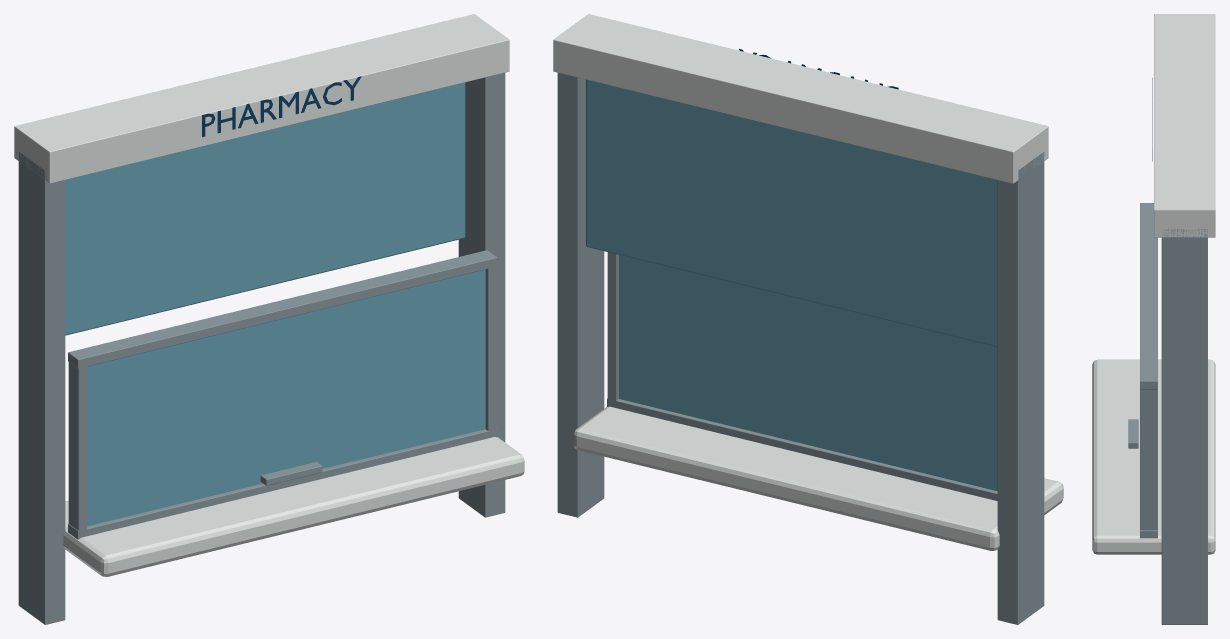
File: edited.glb
3 renders of one model, left to right at view 1: azimuth 30°, elevation 25°; view 2: azimuth 150°, elevation 25°; view 3: azimuth 270°, elevation 25°, orthographic. The views are drawn at different scales.
Parts seen in each view (by area): view 1: SASH_Glass, FIXED_UpperGlass, FRAME_Header, FRAME_Jamb, COUNTER_Ledge, FRAME_Jamb.001, SASH_Rail.001, SASH_Rail, SASH_Stile, SASH_Stile.001, EDITABLE_Title, SASH_Handle; view 2: FIXED_UpperGlass, SASH_Glass, FRAME_Header, COUNTER_Ledge, FRAME_Jamb, FRAME_Jamb.001, SASH_Rail, SASH_Stile.001; view 3: FRAME_Jamb.001, FRAME_Header, COUNTER_Ledge, SASH_Rail.001, SASH_Stile.001, SASH_Handle.
Boxes of the visible parts, x1,y1,x2,y2 form: SASH_Glass: (87, 269, 485, 526); FIXED_UpperGlass: (65, 82, 465, 335); FRAME_Header: (14, 14, 509, 183); FRAME_Jamb: (18, 152, 65, 624); COUNTER_Ledge: (63, 437, 524, 576); FRAME_Jamb.001: (458, 73, 505, 517); SASH_Rail.001: (68, 250, 497, 368); SASH_Rail: (68, 428, 497, 539); SASH_Stile: (68, 362, 87, 531); SASH_Stile.001: (485, 260, 496, 437); EDITABLE_Title: (202, 76, 361, 137); SASH_Handle: (260, 462, 322, 485); FIXED_UpperGlass: (586, 79, 997, 346); SASH_Glass: (619, 255, 997, 491); FRAME_Header: (553, 14, 1048, 183); COUNTER_Ledge: (574, 406, 1063, 550); FRAME_Jamb: (997, 152, 1044, 624); FRAME_Jamb.001: (557, 72, 604, 517); SASH_Rail: (607, 398, 997, 500); SASH_Stile.001: (607, 252, 618, 406); FRAME_Jamb.001: (1161, 229, 1207, 624); FRAME_Header: (1154, 14, 1215, 237); COUNTER_Ledge: (1092, 359, 1215, 554); SASH_Rail.001: (1140, 203, 1157, 389); SASH_Stile.001: (1140, 389, 1157, 530); SASH_Handle: (1128, 419, 1138, 448).
Size of the model in its own units: 1.8 by 1.78 by 0.48.
